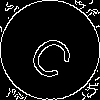C: (25, 25, 83, 84)
